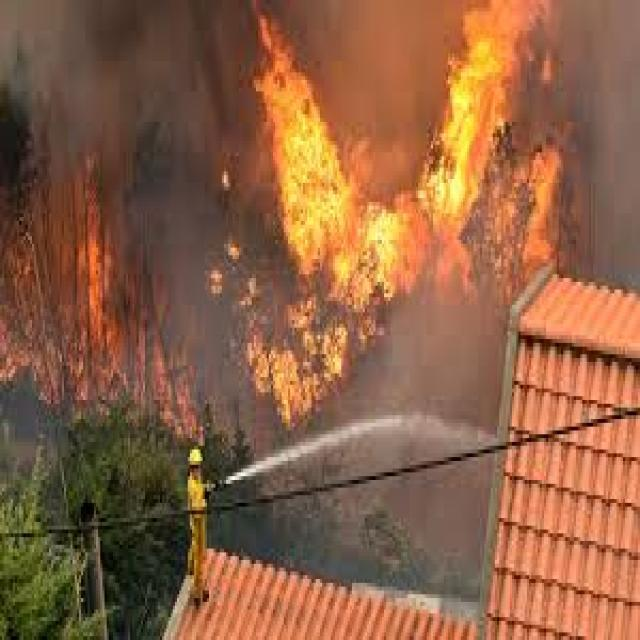Fire: (258, 52, 348, 407), (446, 14, 522, 262), (354, 191, 434, 306)
Smoke: (4, 6, 242, 175)
